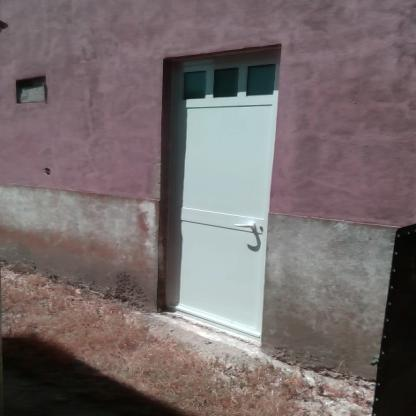door: (169, 63, 265, 334)
lever: (233, 220, 256, 232)
